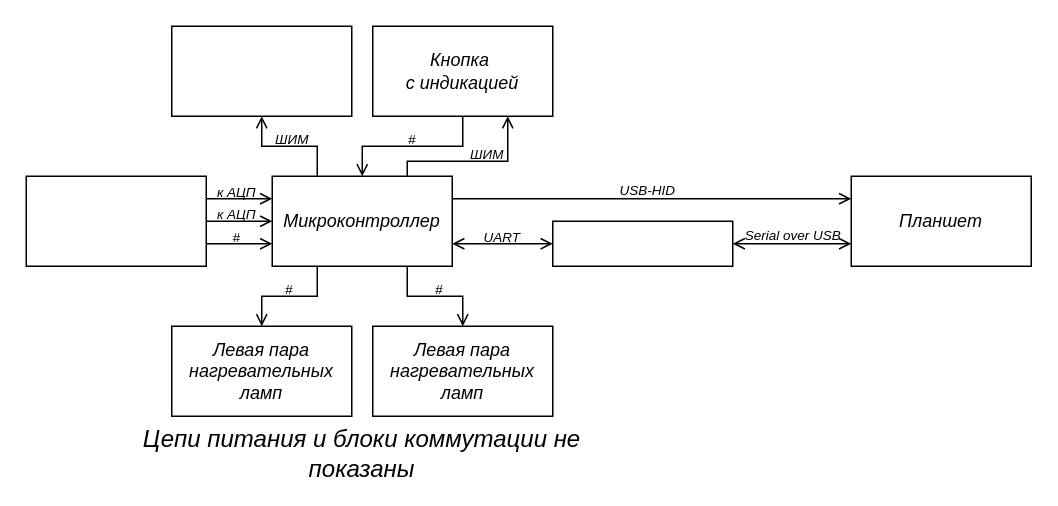
This 1058x506 diagram has some shape labels left out. The shapes that lost their labels are listed below. From the top down, each one's box as (x1, y1, x2, y2) in pixels, then its label:
(170, 25, 352, 116): LED-подсветка
(25, 175, 206, 266): Джойстик с кнопкой
(551, 220, 733, 266): USB-UART WCH CH343
